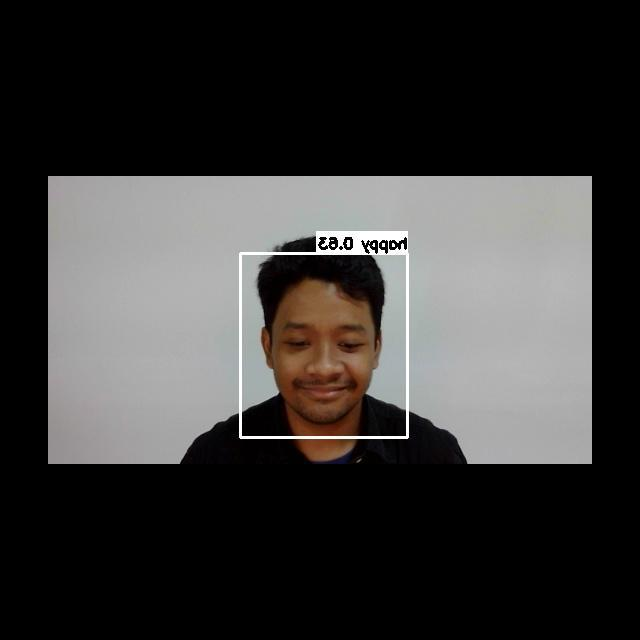Happy: (272, 306, 375, 416)
